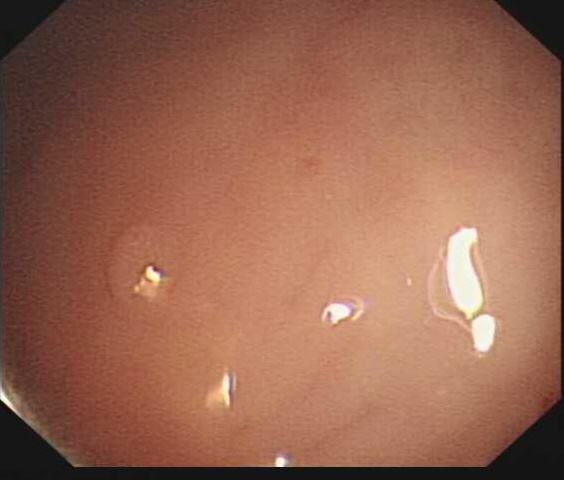others: (103, 219, 178, 312)
